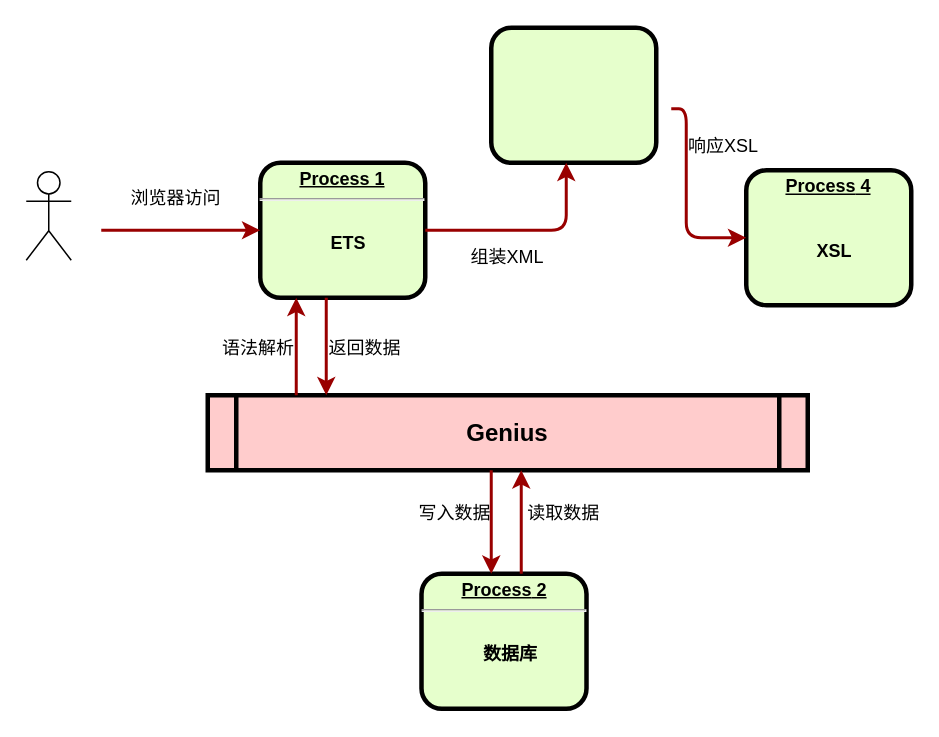
The diagram is 939 pixels wide and 737 high, and some of its shapes have lost their labels. Here are the shapes that lost their labels. From the top down, the centre of each, then its label:
At [573,94]: "Process 3 XML".
At [48,215]: "用户".
